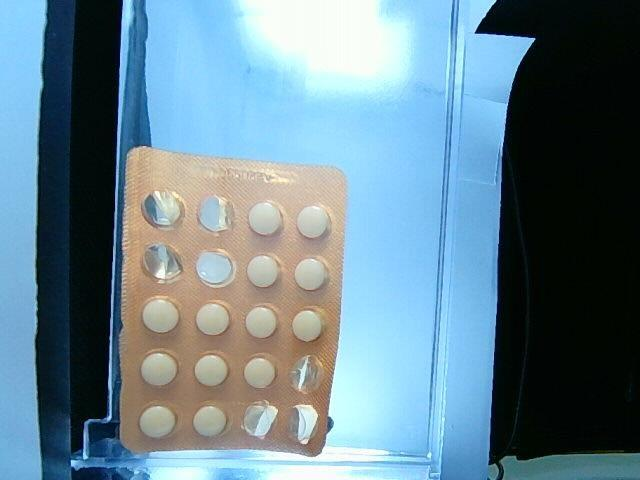Light Front: (119, 147, 349, 460)
No Pill Front: (141, 190, 184, 230), (143, 243, 184, 284), (195, 249, 236, 287), (198, 195, 234, 232), (243, 400, 278, 438), (290, 355, 323, 393), (289, 404, 319, 445)
Pill Front: (143, 296, 180, 333), (141, 351, 178, 386), (248, 201, 284, 236), (195, 301, 231, 336), (194, 353, 230, 388), (139, 405, 177, 438), (294, 258, 329, 291), (246, 254, 281, 287), (296, 205, 329, 238), (291, 309, 324, 342), (245, 305, 277, 338), (244, 355, 276, 388), (193, 405, 226, 436)
